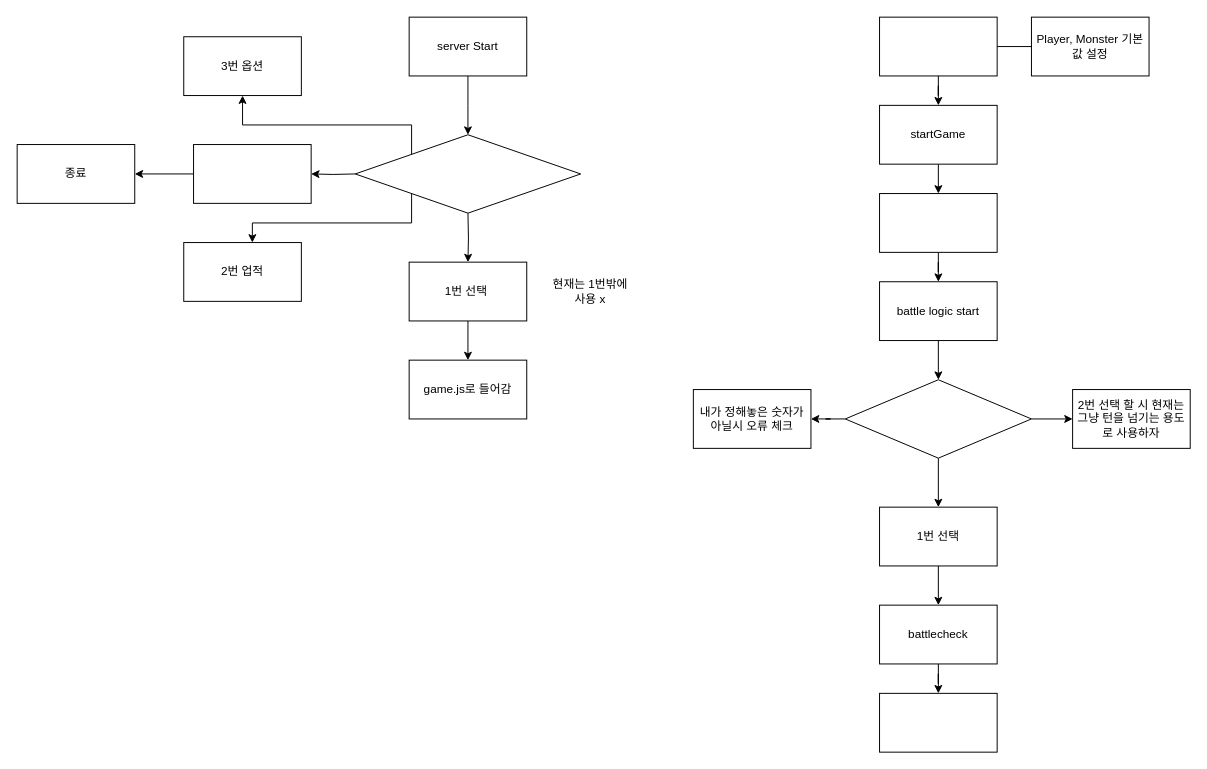
Image size: 1207x769. Some labels were removed from this diagram. Each missing label, with the centre of its shape:
"4번 선택" goes at [252,173].
"choice" goes at [937,418].
"displayStatus" goes at [938,222].
"game.js" goes at [938,46].
"handleUserInput" goes at [467,173].
"UpdateStatus로 DisplayStatus player, monster 수정" goes at [938,722].
